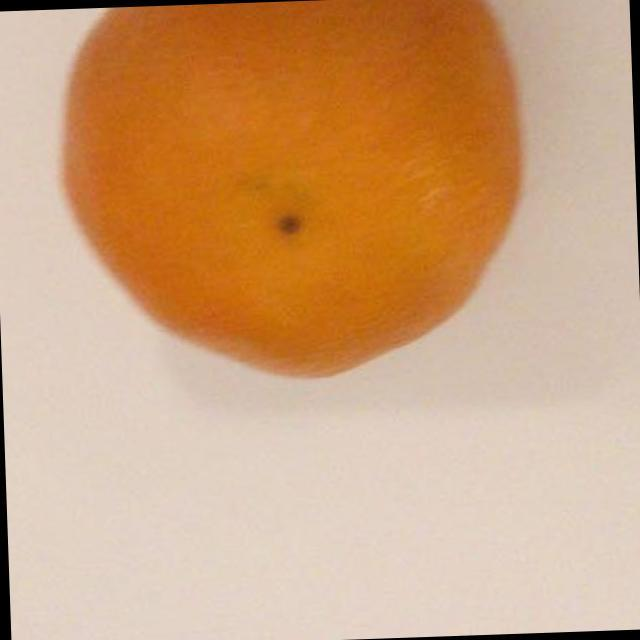Orange: (52, 0, 544, 401)
